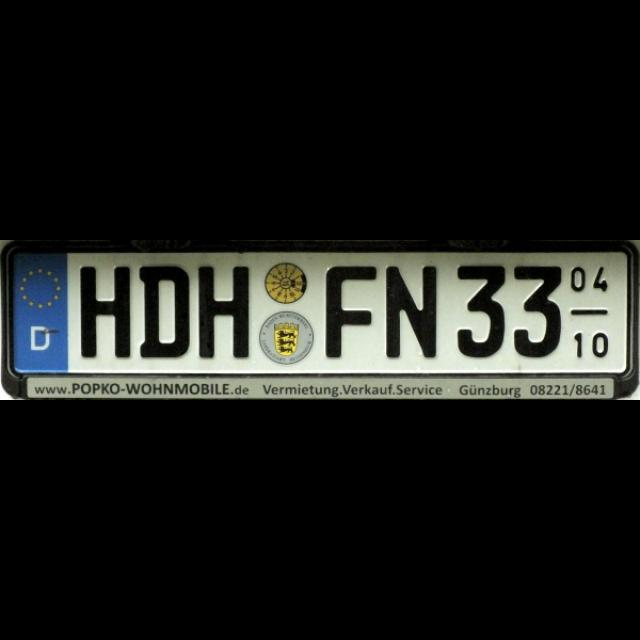license-plates: (5, 246, 632, 395)
